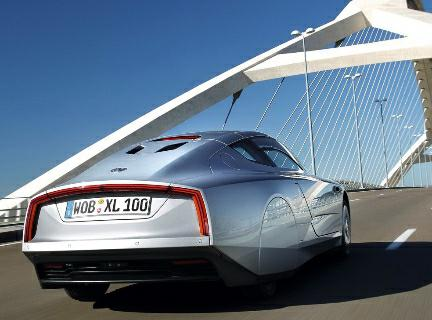大众-XL1: (19, 128, 358, 304)
